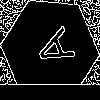A: (25, 25, 76, 75)
